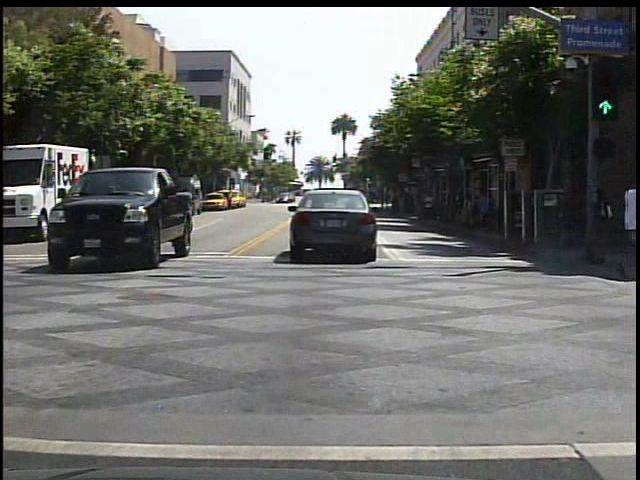person: (594, 172, 625, 271), (421, 188, 439, 224)
